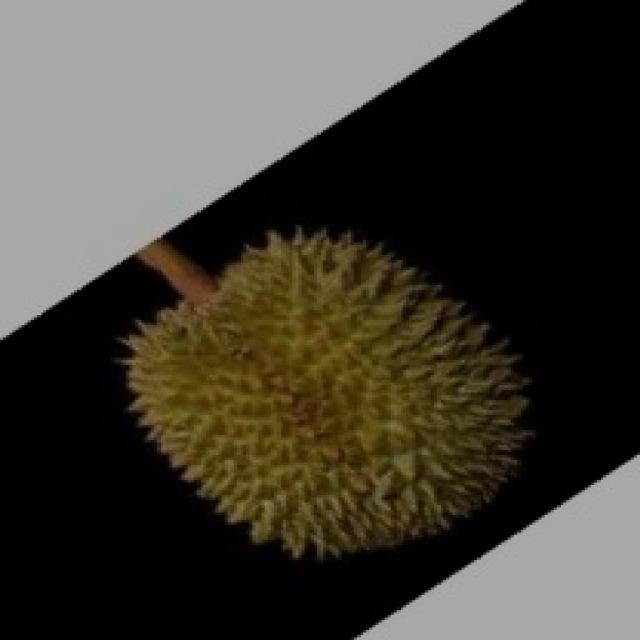fruit: (68, 192, 523, 618)
